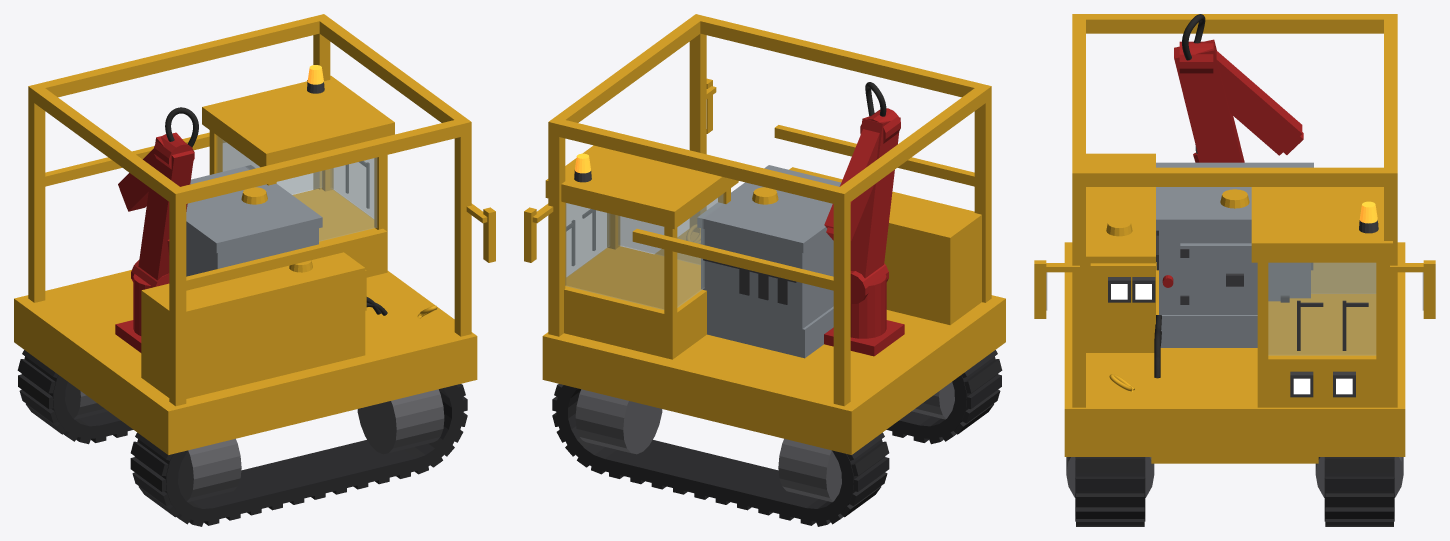
3 renders of one model, left to right at view 1: azimuth 30°, elevation 25°; view 2: azimuth 150°, elevation 25°; view 3: azimuth 270°, elevation 25°, orthographic. The views are drawn at different scales.
Parts seen in each view (by area): view 1: Chassis.001, ROPS.001, Side_Module.001, Cab_Frame.001, Track_R.001, PowerPack.001, Wheels.001, Cab_Glass.001, Crane_Boom.001, Track_L.001, Crane_Column.001, Mirror_Housing.001 (+1 smaller); view 2: ROPS.001, Chassis.001, Cab_Frame.001, PowerPack.001, Track_L.001, Side_Module.001, Cab_Glass.001, Wheels.001, Crane_Boom.001, Track_R.001, Crane_Column.001, Mirror_Housing.001 (+1 smaller); view 3: Chassis.001, Cab_Frame.001, ROPS.001, PowerPack.001, Side_Module.001, Cab_Glass.001, Crane_Boom.001, Track_L.001, Track_R.001, Mirror_Housing.001, Light_Housings.001, Wheels.001 (+5 smaller).
Part boxes in pixels (x1,y1,x2,y2): Chassis.001: (14, 270, 477, 454); ROPS.001: (28, 14, 471, 406); Side_Module.001: (141, 252, 366, 398); Cab_Frame.001: (202, 75, 394, 277); Track_R.001: (130, 384, 467, 526); PowerPack.001: (186, 165, 322, 276); Wheels.001: (65, 382, 444, 502); Cab_Glass.001: (216, 136, 377, 241); Crane_Boom.001: (118, 132, 194, 280); Track_L.001: (17, 350, 133, 444); Crane_Column.001: (115, 260, 169, 352); Mirror_Housing.001: (307, 80, 495, 262); ROPS.001: (548, 14, 991, 406); Chassis.001: (542, 229, 1005, 454); Cab_Frame.001: (545, 145, 738, 359); PowerPack.001: (697, 165, 840, 358); Track_L.001: (552, 384, 889, 526); Side_Module.001: (789, 167, 981, 324); Cab_Glass.001: (565, 194, 723, 309); Wheels.001: (575, 382, 954, 502); Crane_Boom.001: (824, 108, 900, 278); Track_R.001: (886, 350, 1002, 444); Crane_Column.001: (824, 263, 904, 356); Mirror_Housing.001: (524, 78, 716, 262); Chassis.001: (1064, 242, 1405, 463); Cab_Frame.001: (1251, 187, 1392, 407); ROPS.001: (1072, 14, 1397, 407); PowerPack.001: (1156, 162, 1313, 347); Side_Module.001: (1086, 153, 1155, 352); Cab_Glass.001: (1268, 262, 1376, 355); Crane_Boom.001: (1174, 39, 1303, 162); Track_L.001: (1324, 457, 1394, 526); Track_R.001: (1075, 457, 1145, 526); Mirror_Housing.001: (1034, 260, 1435, 318); Light_Housings.001: (1108, 277, 1355, 397); Wheels.001: (1066, 457, 1403, 497).
Size of the model in its own units: 2.64 by 2.97 by 2.64.
